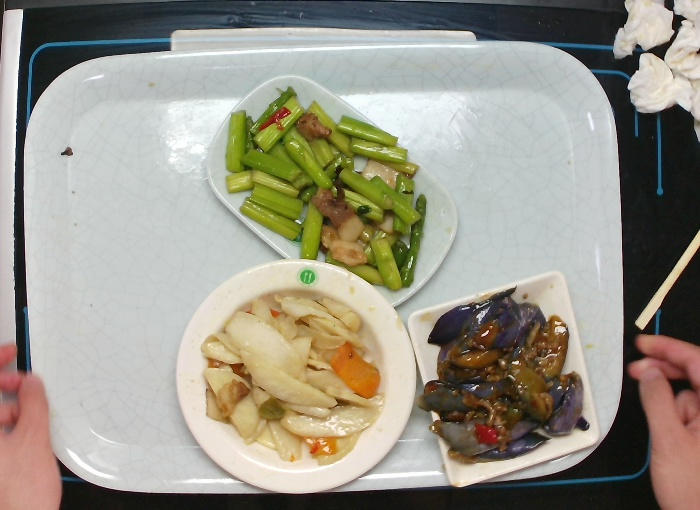WCQzf-Bai_Se_Si_Fang_Die: (405, 266, 603, 490)
WCQzf-Kuan_Bian_Yuan_Die: (172, 255, 419, 495)
WCQzf-Tuo_Yuan_Pan: (203, 72, 461, 311)
